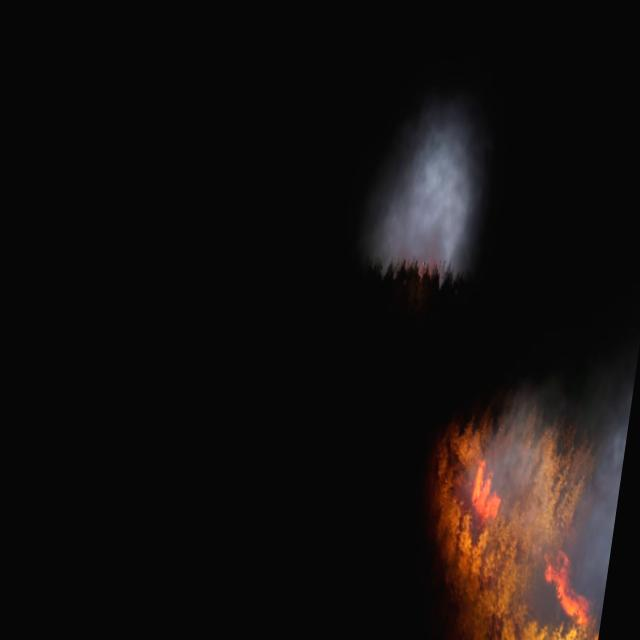fire: (412, 402, 627, 640)
smoke: (470, 363, 634, 613), (361, 98, 492, 284)
